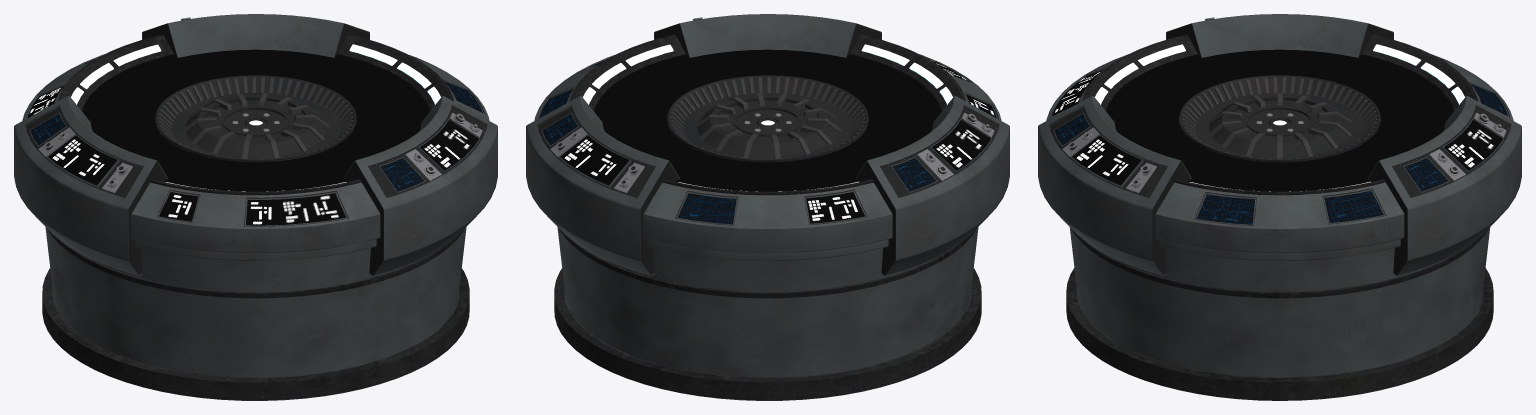
The model's file is holotable.glb.
The picture shows the model from 3 angles, left to right: view 1: azimuth 30°, elevation 25°; view 2: azimuth 150°, elevation 25°; view 3: azimuth 270°, elevation 25°; orthographic projection.
Parts seen in each view (by area): view 1: Holotable; view 2: Holotable; view 3: Holotable.
Part boxes in pixels (bbox=[...]): Holotable: bbox=[14, 14, 497, 400]; Holotable: bbox=[526, 14, 1009, 400]; Holotable: bbox=[1038, 14, 1521, 400].
Bounding box in the file's own units: 2.1 × 1.05 × 2.13.
5 materials, 4 textured.
